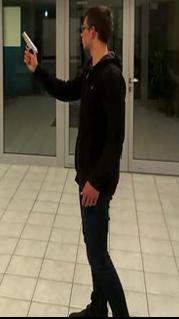pistol: (21, 30, 40, 67)
